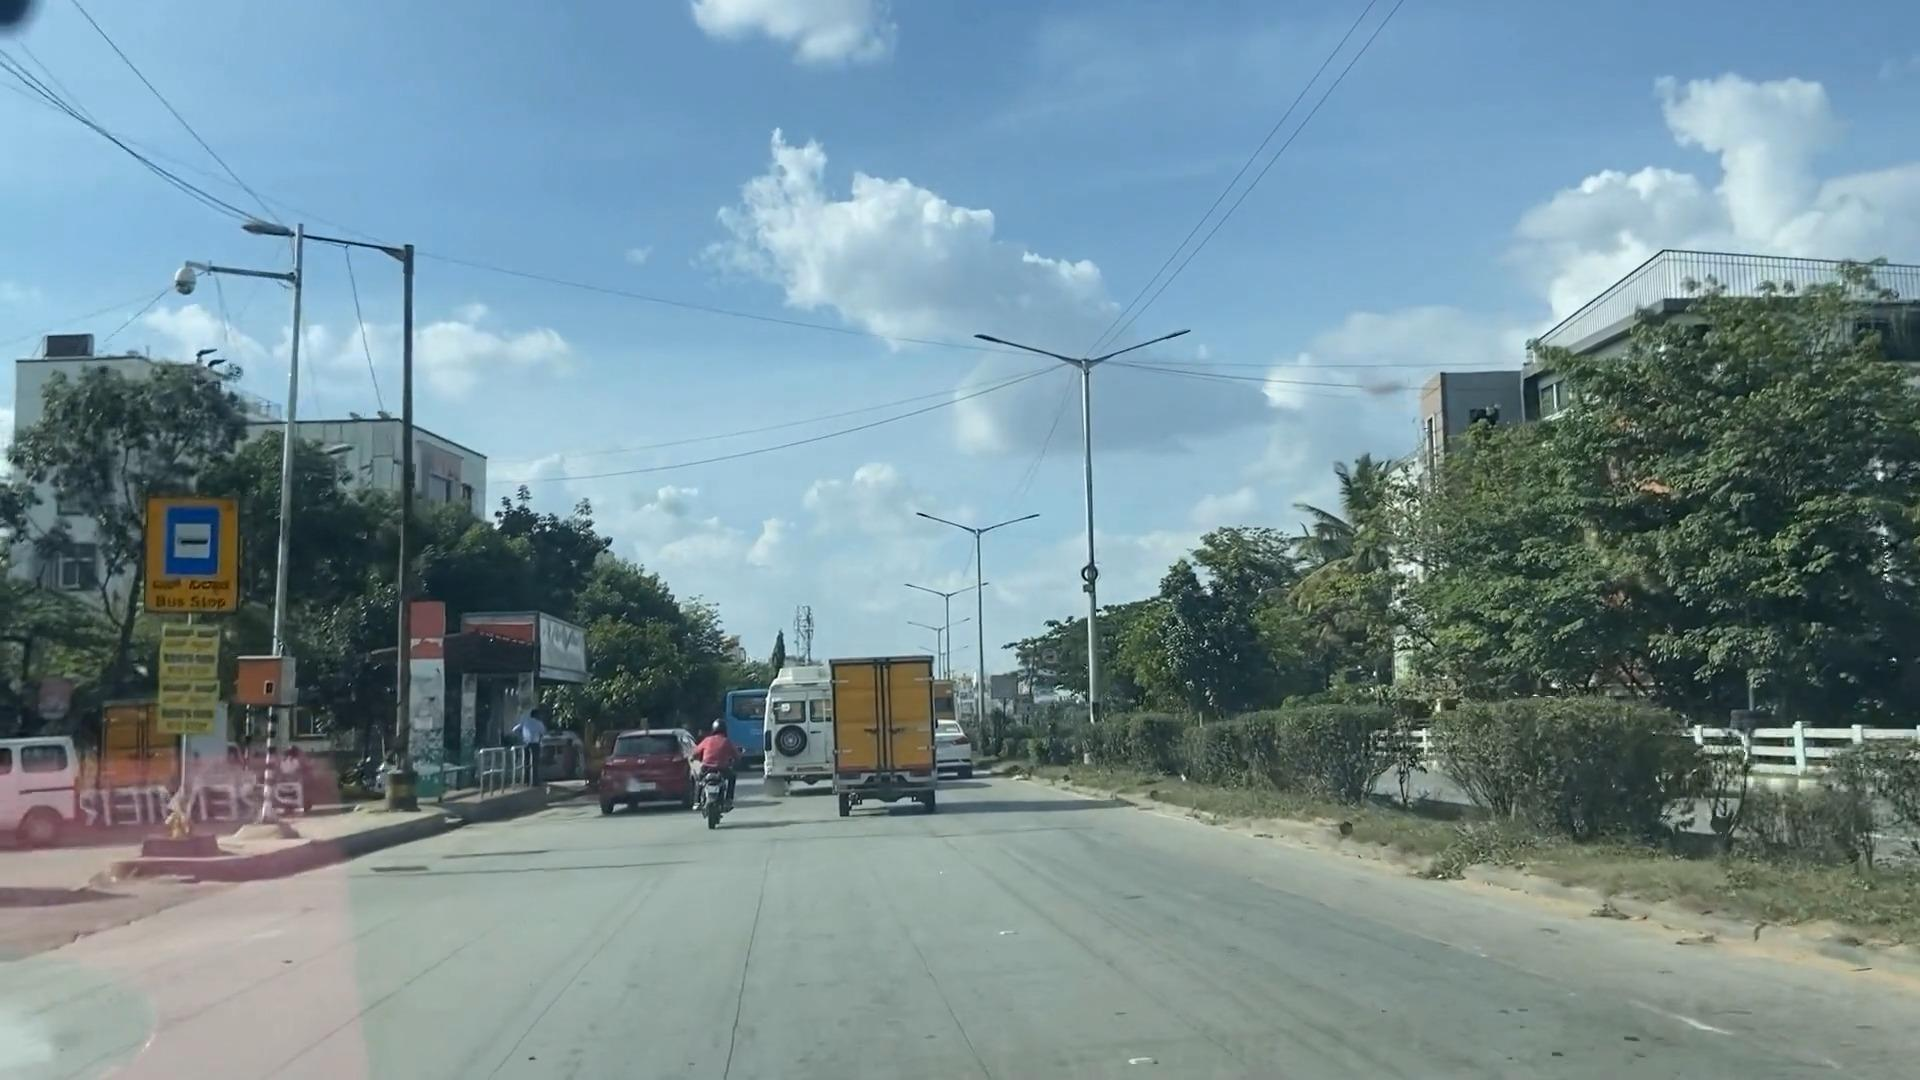HMV: (823, 642, 955, 816)
LMV: (600, 732, 698, 803), (696, 724, 744, 829)
